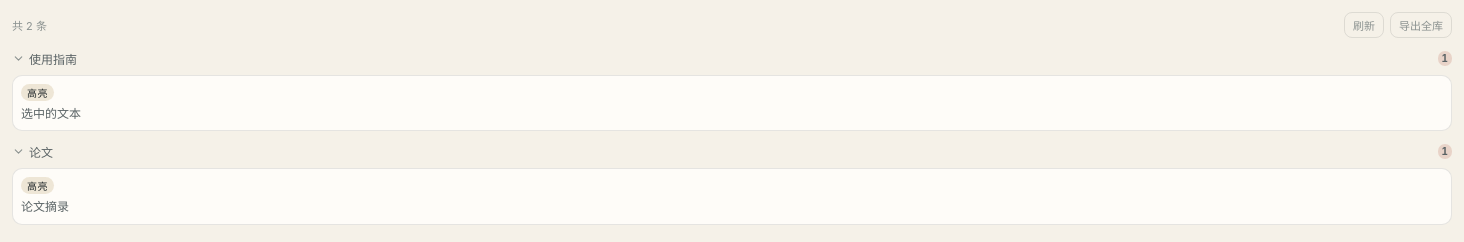
Test: AnnotationLibraryPanel search, filters and groups (方案四 A1/A2) › collapses and re-expands a document group
expect the text "选中的文本" is shown: met, box x1=21 y1=106 x2=81 y2=121
Click the button "使用指南".
click(53, 60)  # box x1=12 y1=50 x2=1432 y2=67
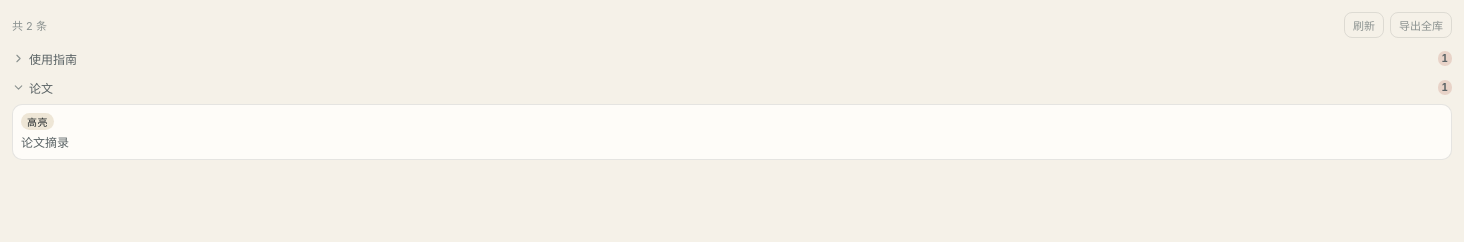
expect the button "使用指南" is collapsed: met
expect the button "选中的文本" is gone: met
Click the button "使用指南".
click(53, 60)  # box x1=12 y1=50 x2=1432 y2=67
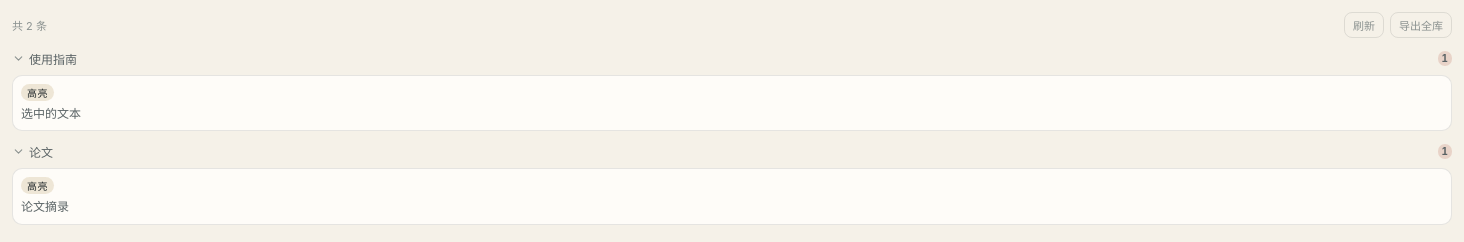
expect the text "选中的文本" is shown: met, box x1=21 y1=106 x2=81 y2=121
